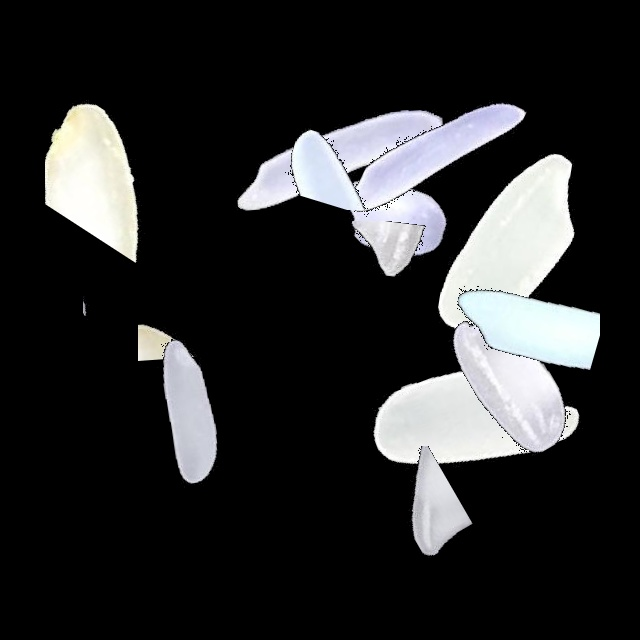Broken: (67, 292, 241, 542), (426, 194, 600, 444), (45, 37, 198, 287), (265, 446, 515, 575), (234, 88, 484, 210), (256, 221, 506, 326), (255, 340, 342, 590), (138, 192, 220, 442), (83, 177, 159, 427)
Full: (213, 35, 463, 285), (268, 93, 518, 343), (349, 292, 599, 542), (310, 31, 560, 281), (384, 118, 634, 368), (388, 257, 638, 507)
